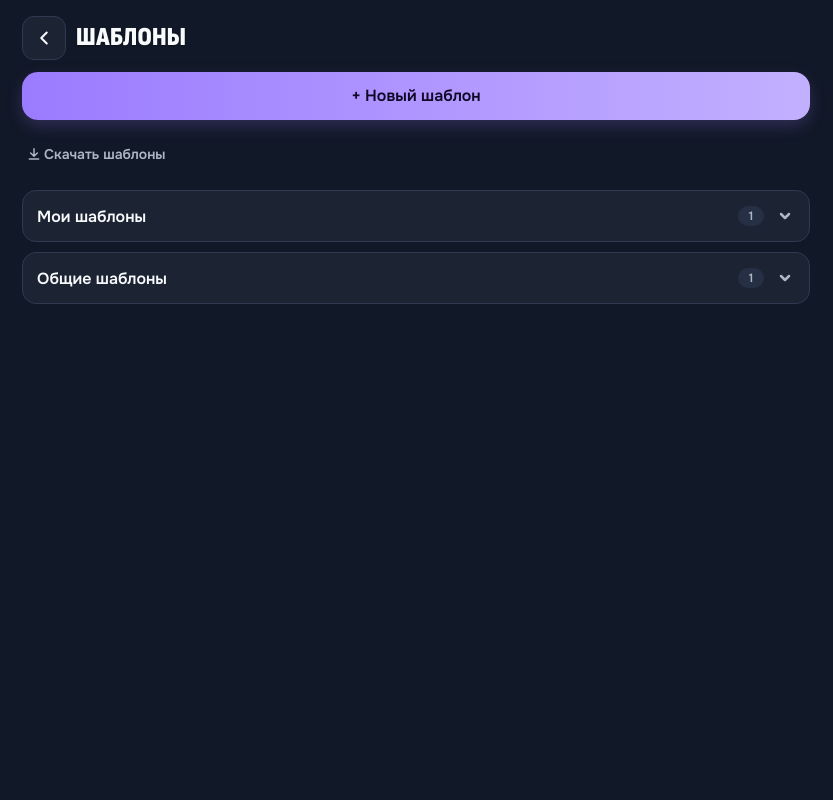
Scenario: TemplatesScreen — список › экспорт: выбор карточек вместо открытия, «Скачать» отдает выбранные
Step 1. Click the button "Мои шаблоны 1" → (92, 216), box [22,190,810,242]
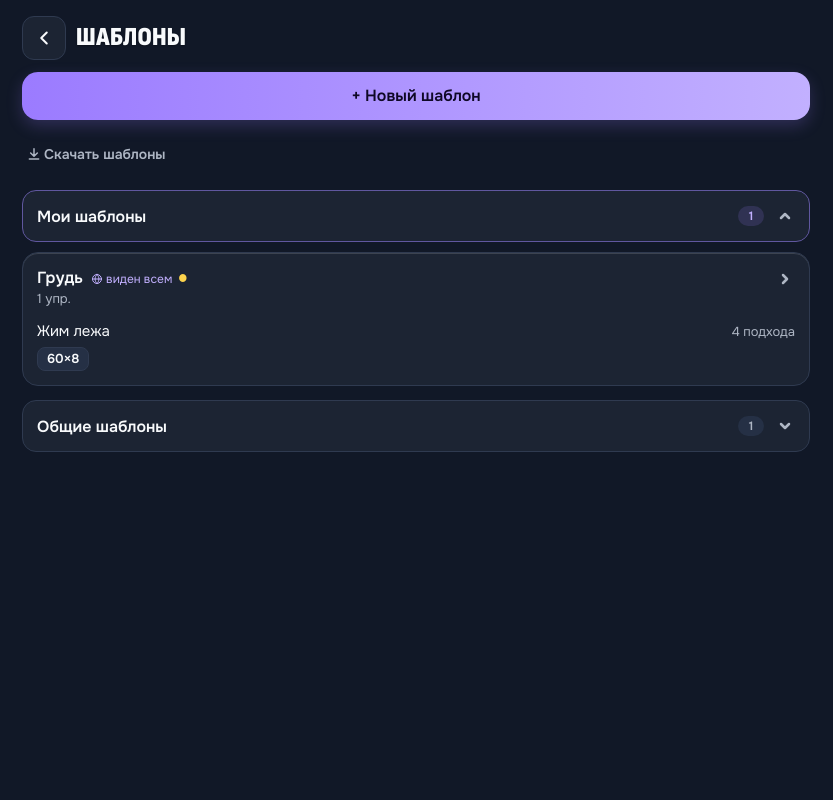
Step 2. Click the button "Общие шаблоны 1" → (102, 426), box [22,400,810,452]
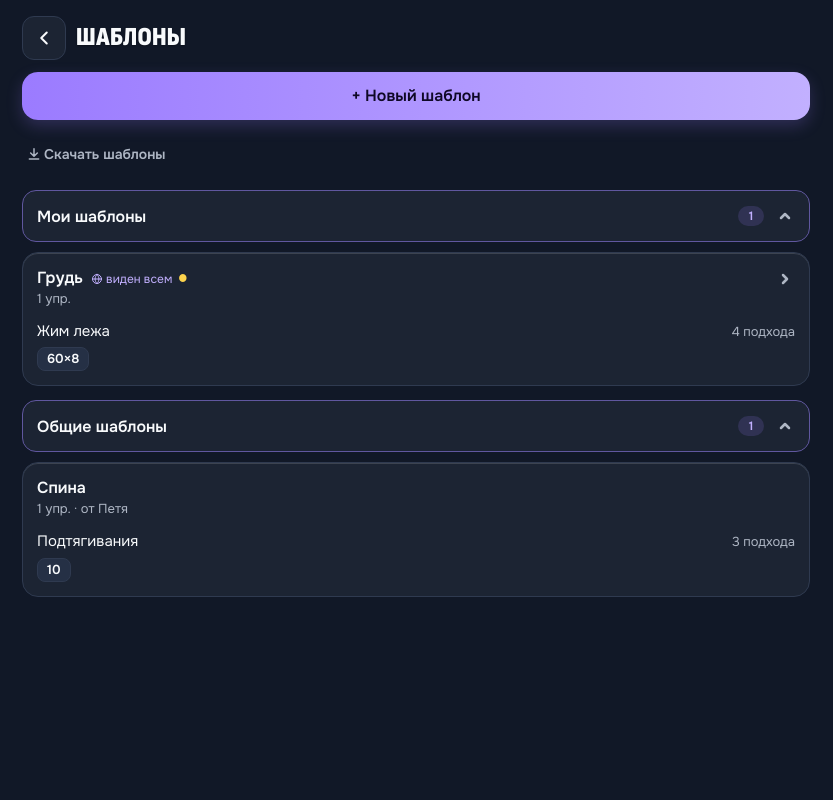
Step 3. Click the button "Скачать шаблоны" → (96, 154), box [22,132,170,176]
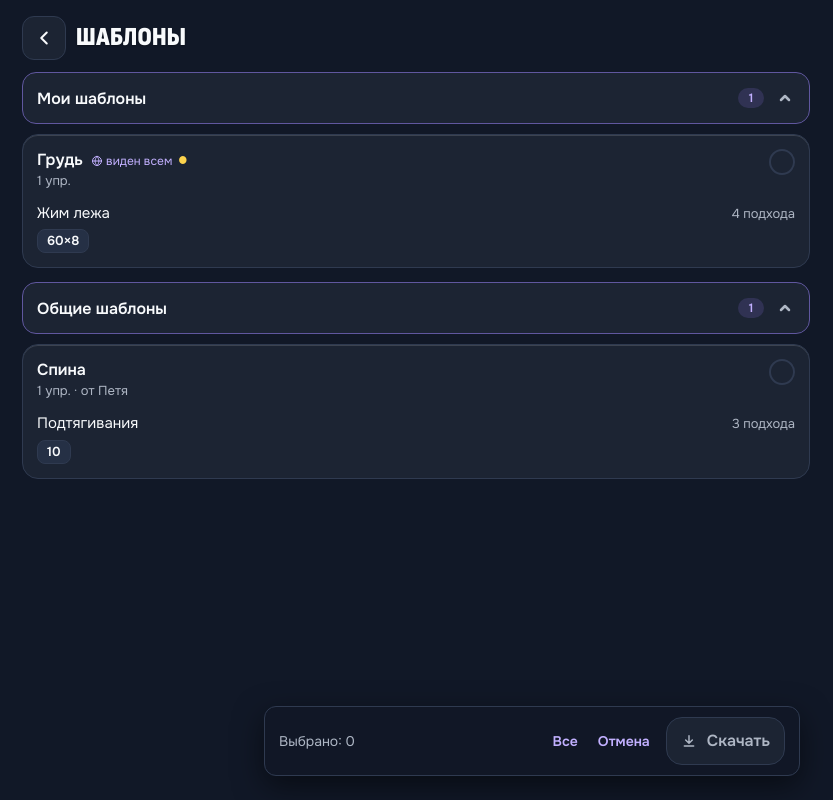
Result: the button "+ Новый шаблон" is gone
Step 4. Click the button "Спина" → (61, 370), box [22,344,810,479]
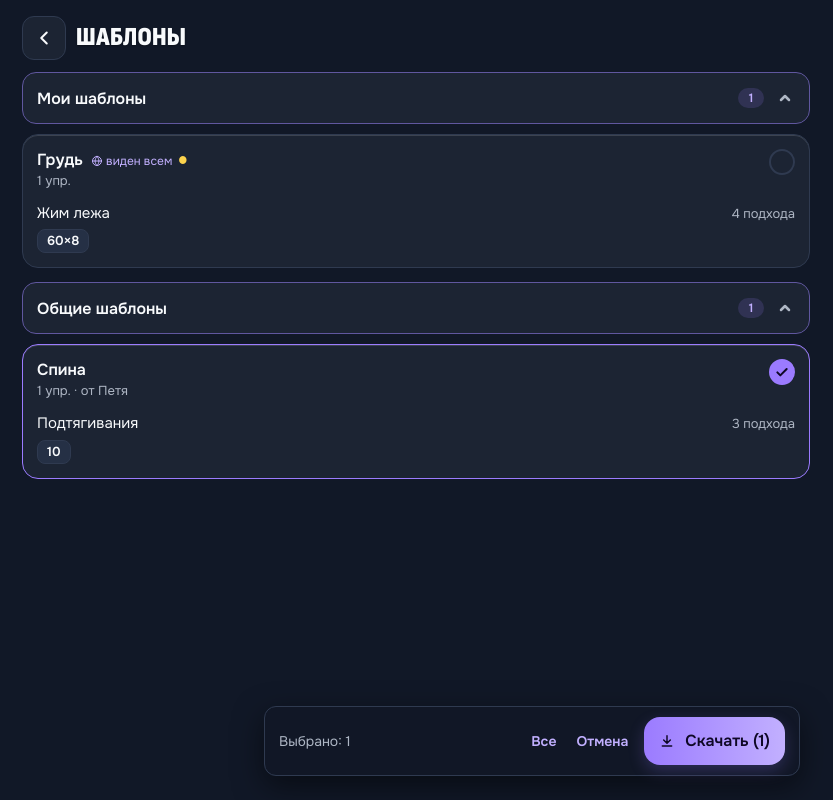
Result: the button "Спина" has class "picked" at [22,344,810,479]
Step 5. Click the button "Скачать (1)" → (715, 741), box [644,717,785,765]
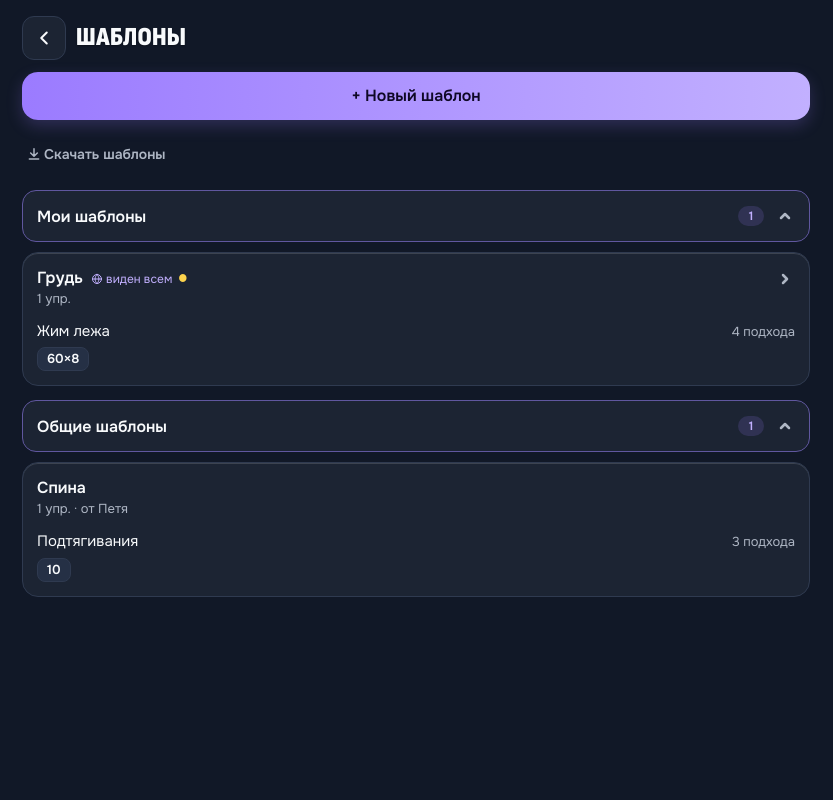
Result: the button "+ Новый шаблон" is shown at [22,72,810,120]
